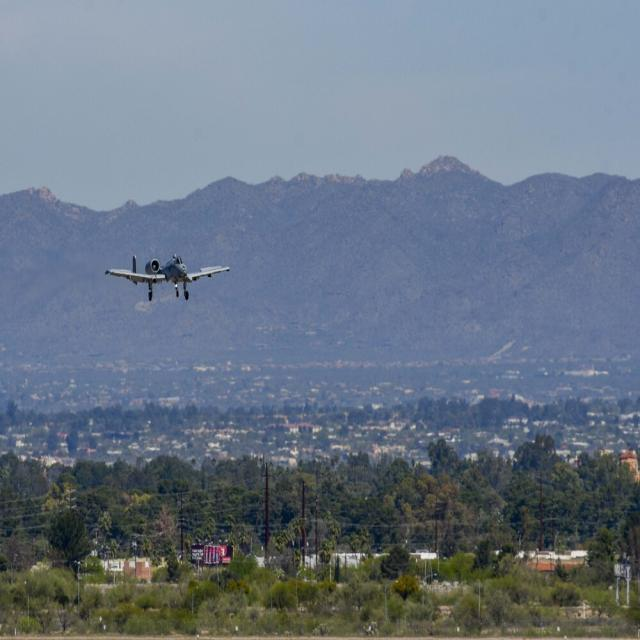MIL_Plane: (104, 254, 230, 301)
